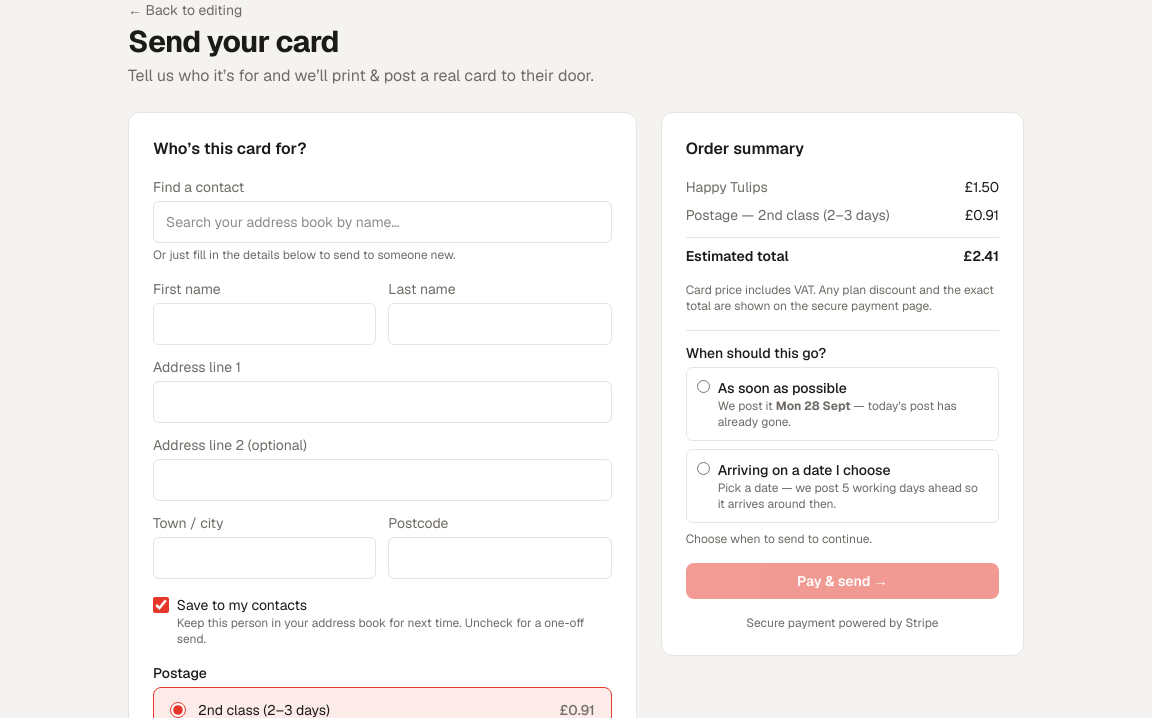
Test: single-card send, a design that greets somebody by hand › will not pay until the sender confirms the name
The width and height of the screenshot is (1152, 718).
Expected: the text "This design says" is not shown
Type "Elise" into the field labelled "First name" at (265, 324), box [153,303,376,345]
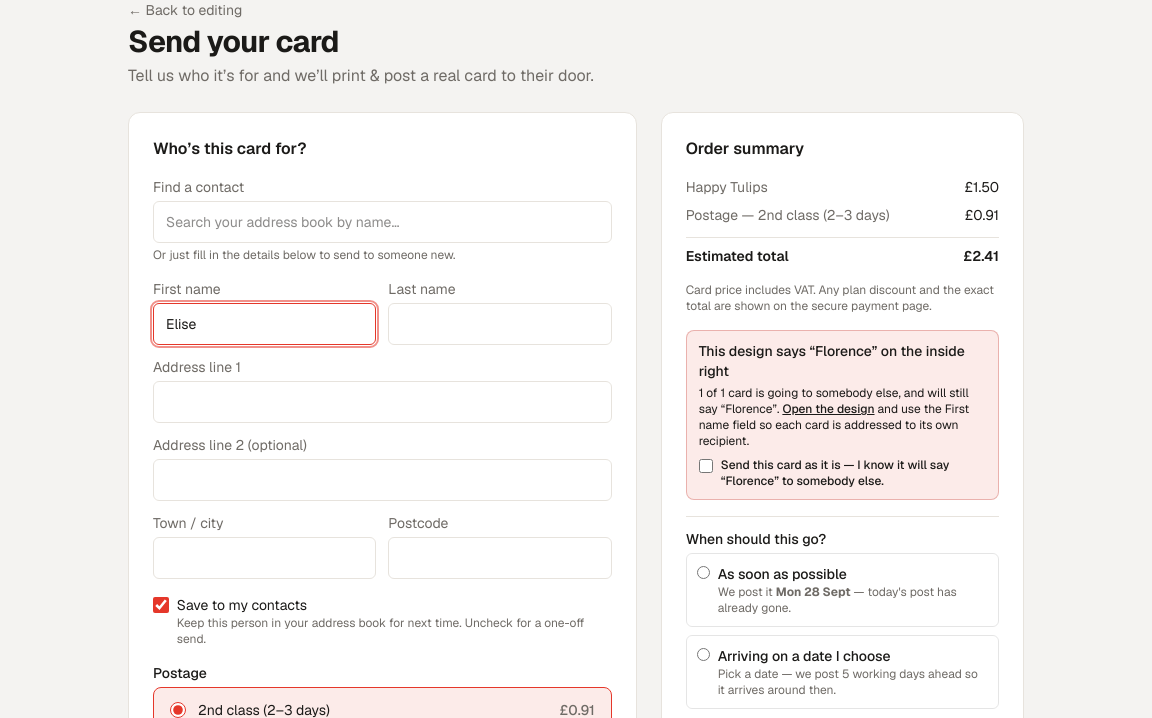
Result: the text "This design says “Florence” on the inside right" is shown at [699,341,986,381]
// Choose the timing, so the only thing left holding the send is the name.
Click the radio button labelled "As soon as possible" at (703, 572), box [697,566,710,579]
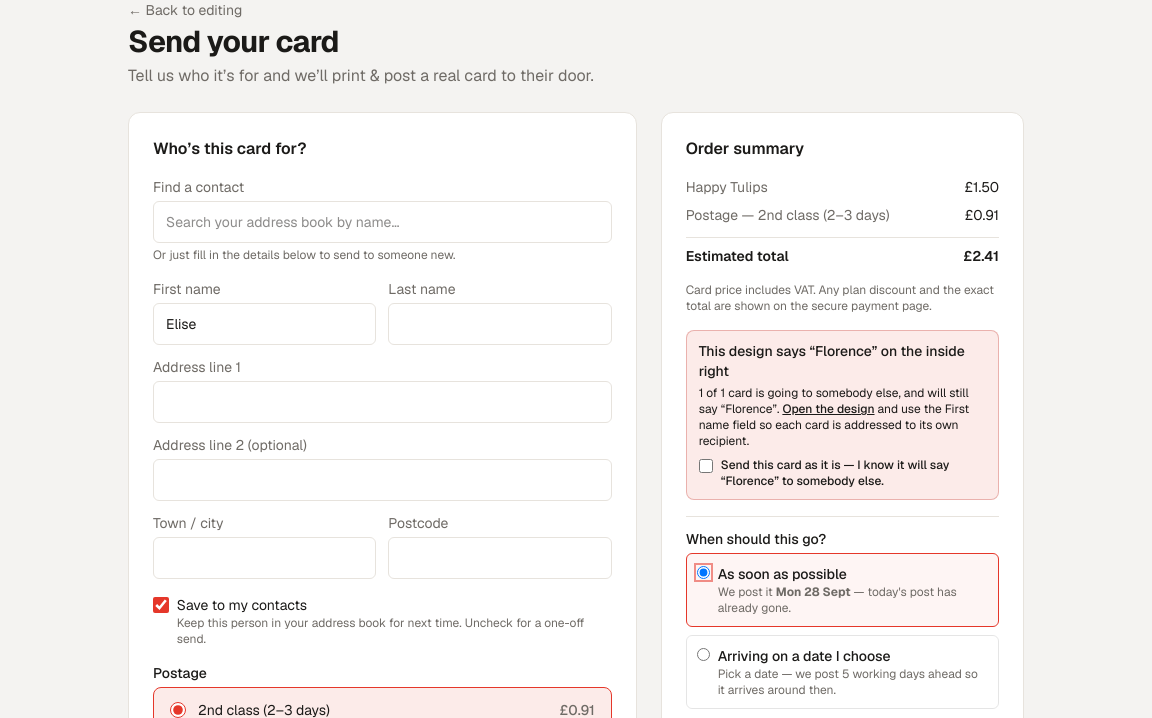
Click the checkbox labelled "Florence" at (706, 466), box [699,459,713,473]
(page scrolled)
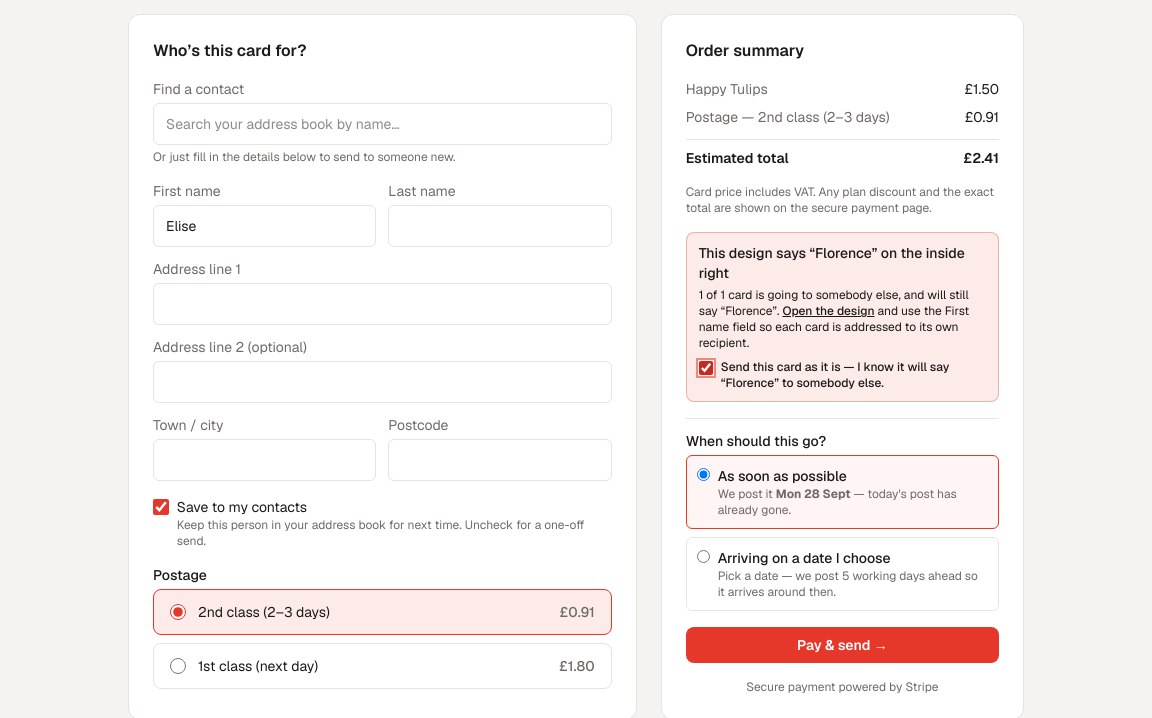
Result: the button "Pay & send →" is enabled at [686,627,999,663]
